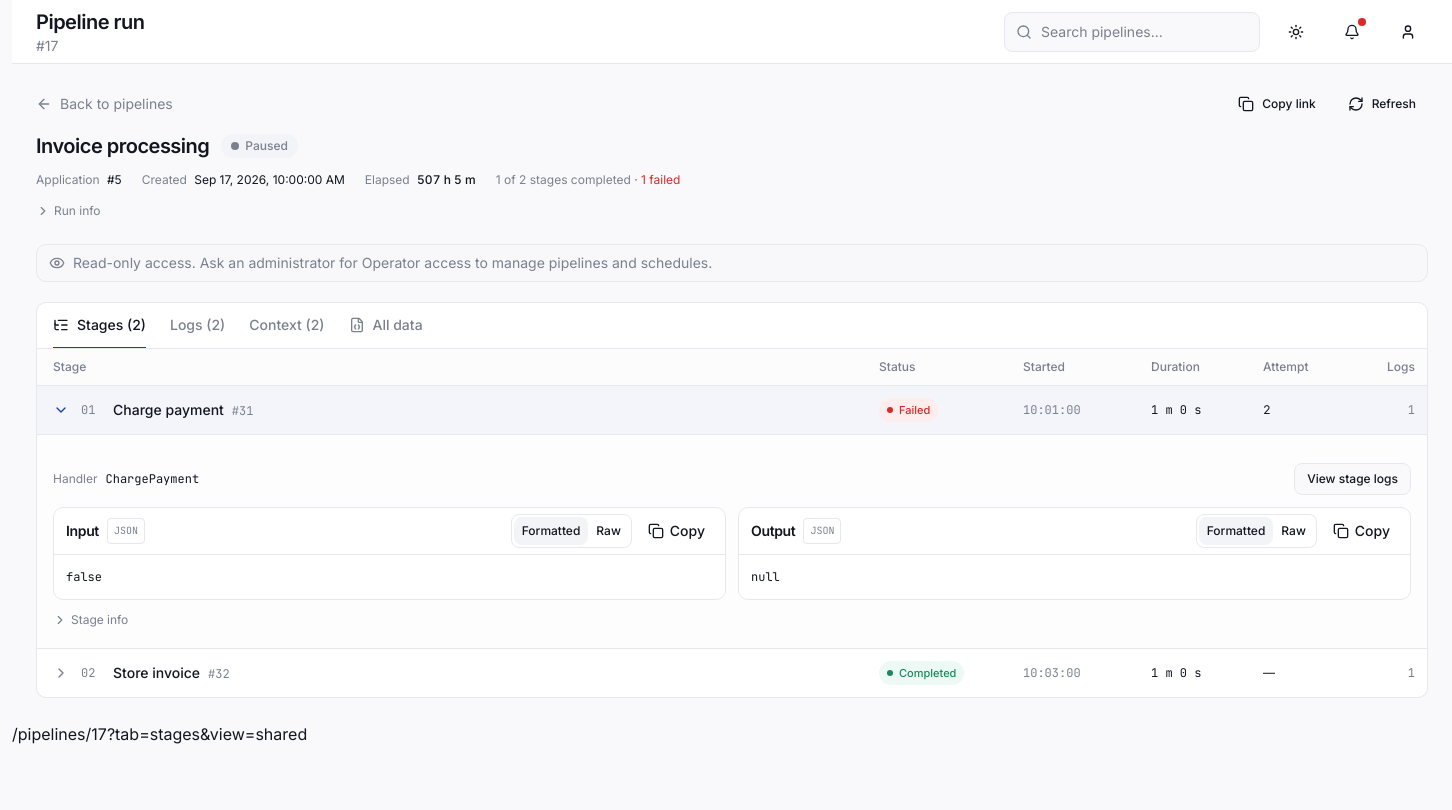
Test: PipelineDetail › updates the URL when a stage is selected and when its logs are opened
Click the button "02 Store invoice#32".
click(157, 672)  # box [37,651,867,695]
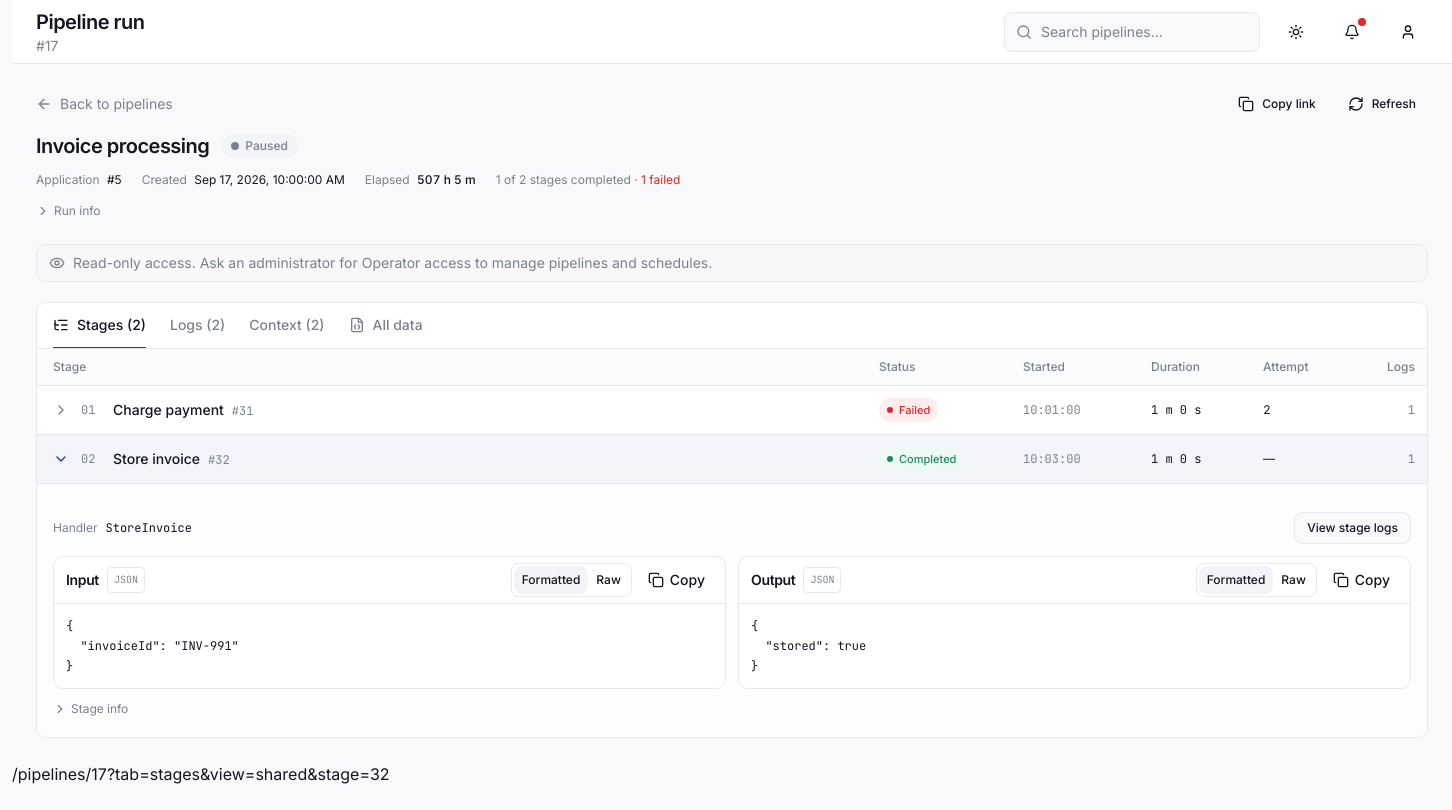
Check: the text with test id "location" reads "/pipelines/17?tab=stages&view=shared&stage=32", box [12,764,390,784]
Click the button "View stage logs".
click(1353, 528)  # box [1294,512,1411,544]
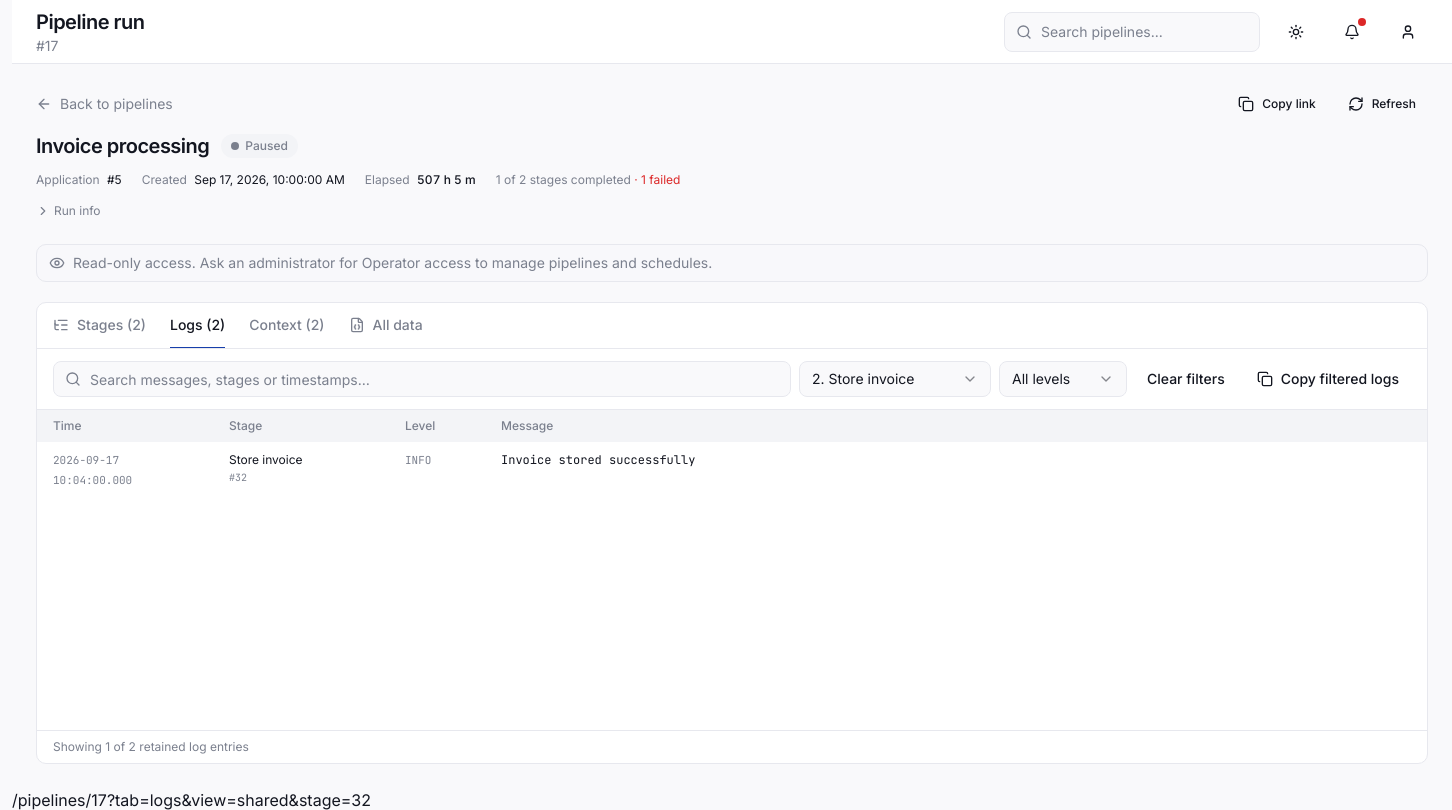
Check: the text with test id "location" reads "/pipelines/17?tab=logs&view=shared&stage=32", box [12,790,371,809]
Check: the text "Invoice stored successfully" is shown, box [501,452,695,468]
